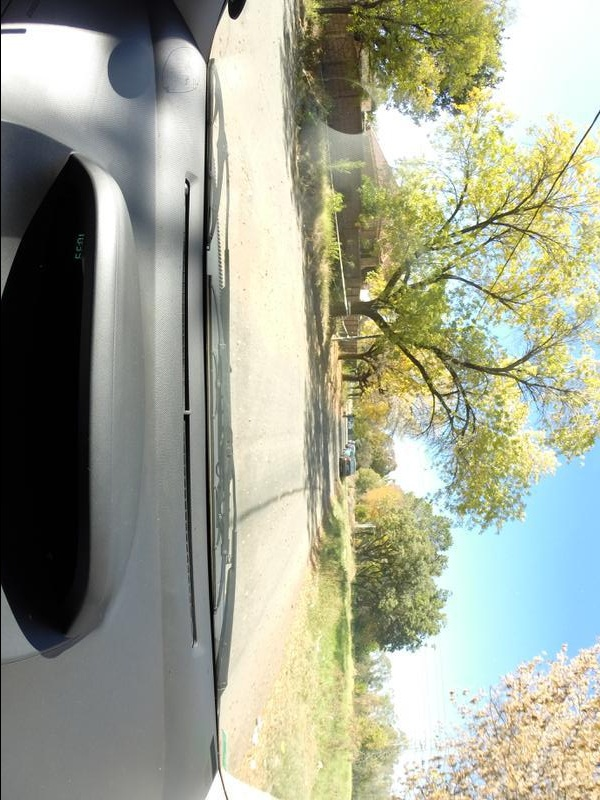pothole: (236, 165, 252, 238)
